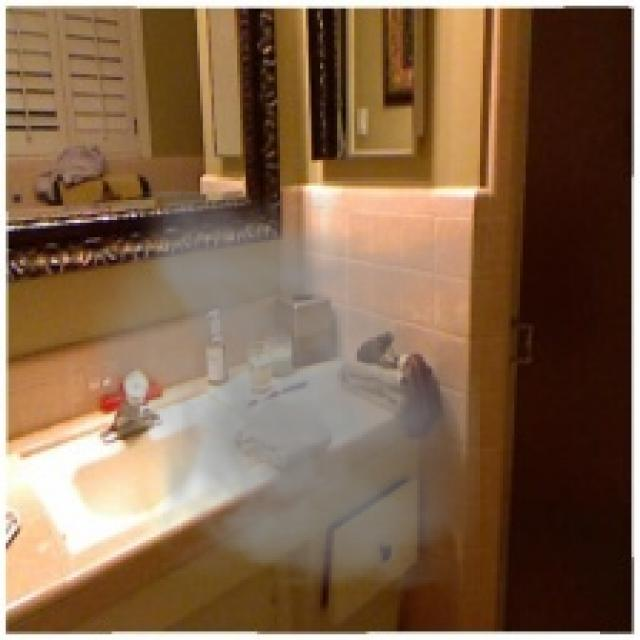smoke: (71, 192, 480, 592)
